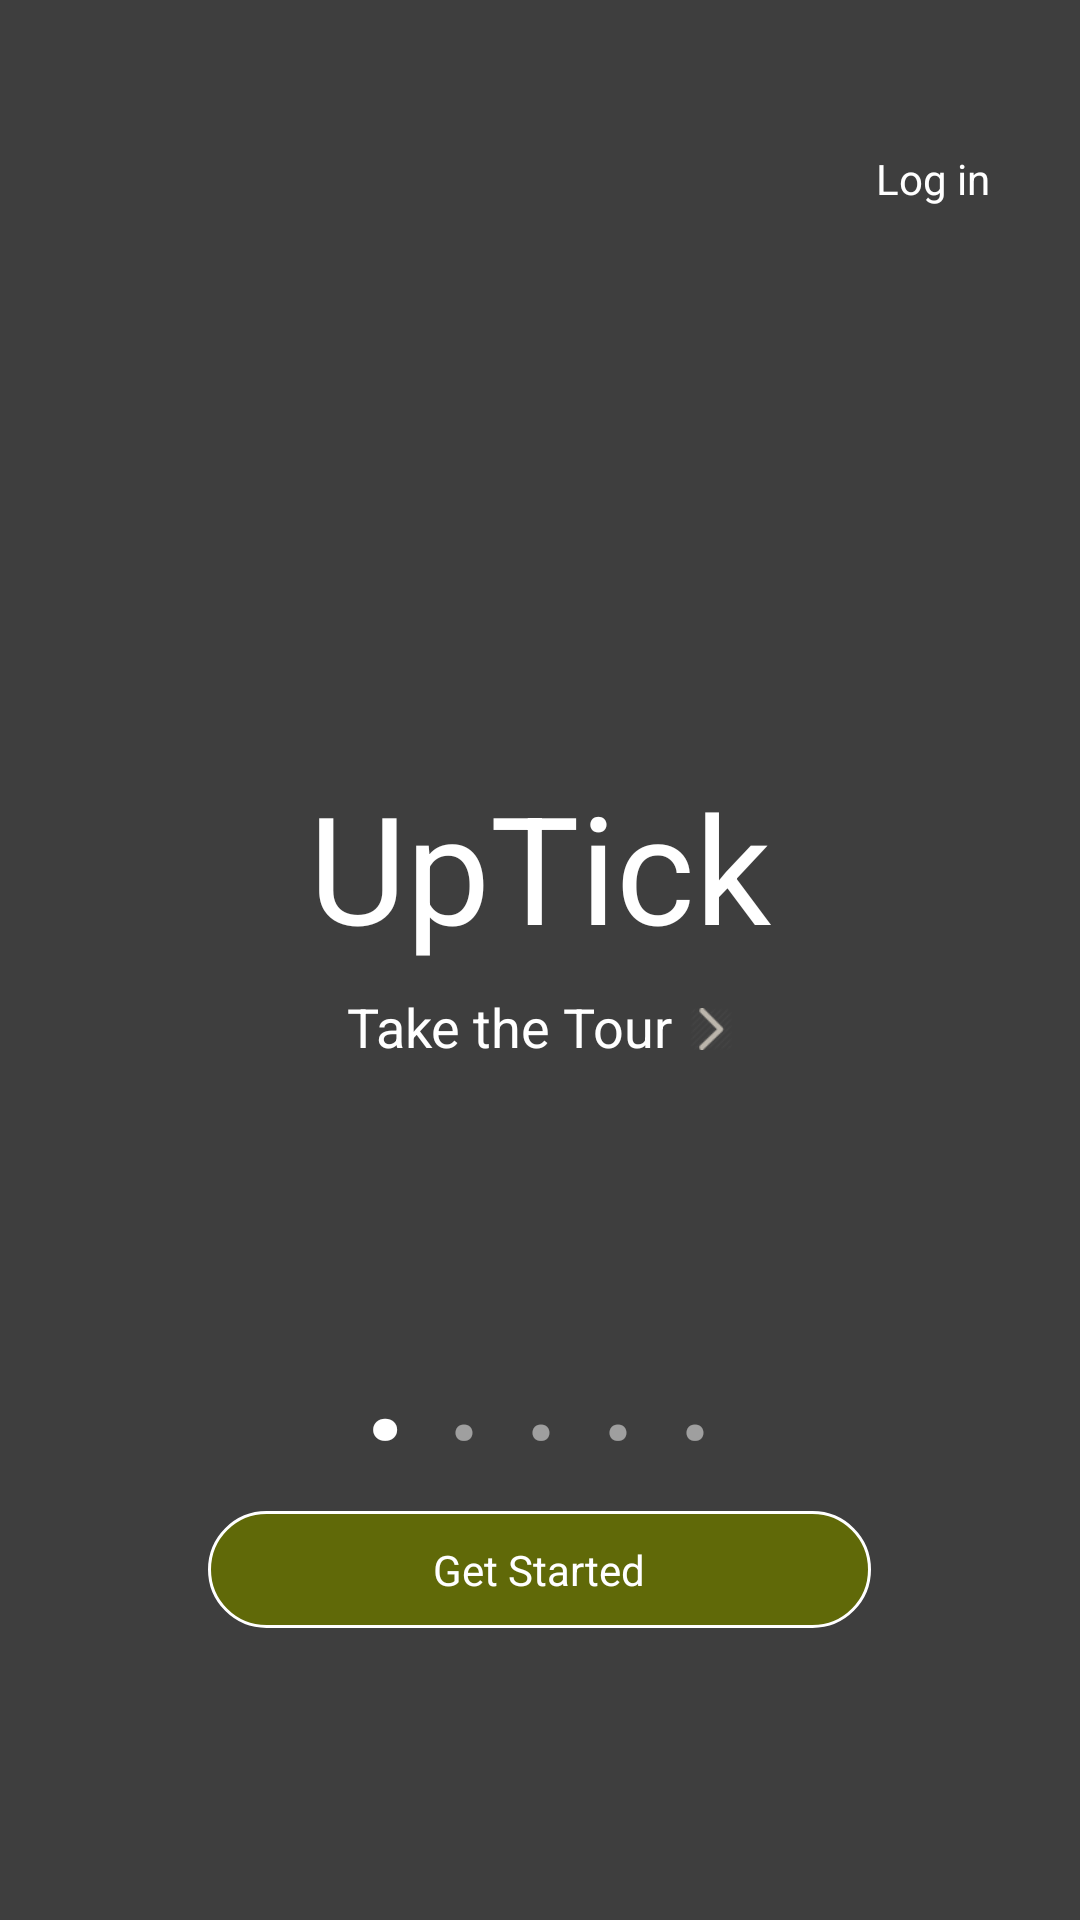

Where icons sit on this 1080px x 1920px app screen, as (x1, y1, x2, y2):
next: (699, 1008, 724, 1050)
